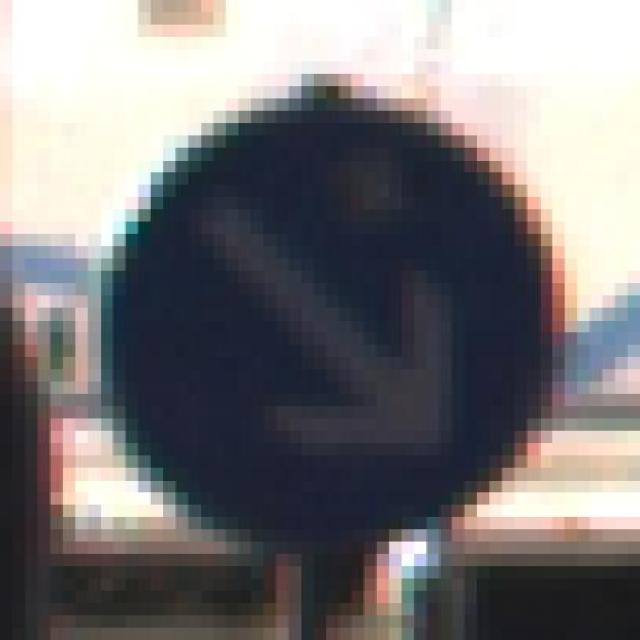Keep-Right: (62, 86, 578, 566)
